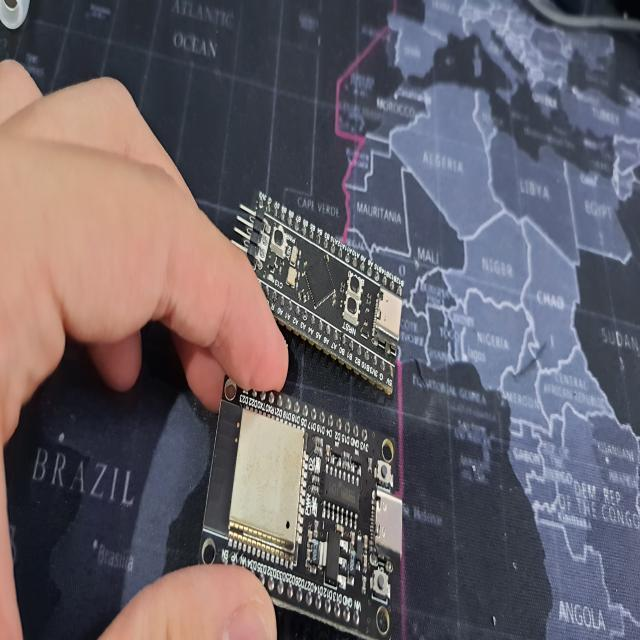STM32: (202, 381, 402, 640), (235, 193, 400, 395)
